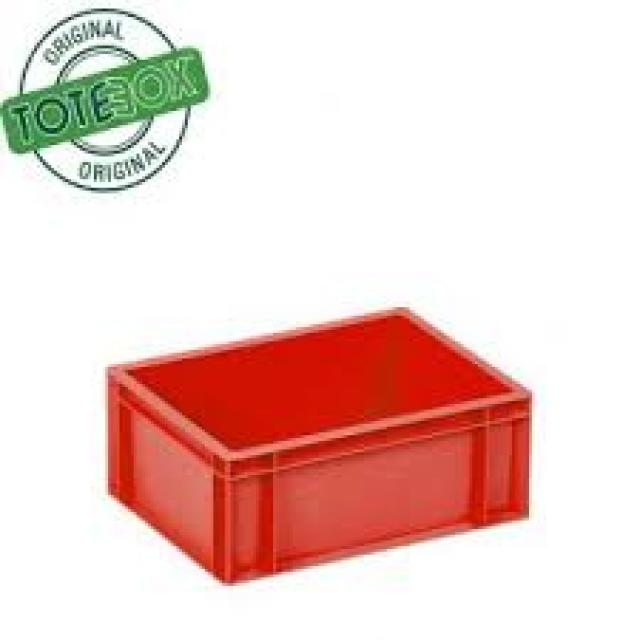basket: (85, 281, 558, 606)
